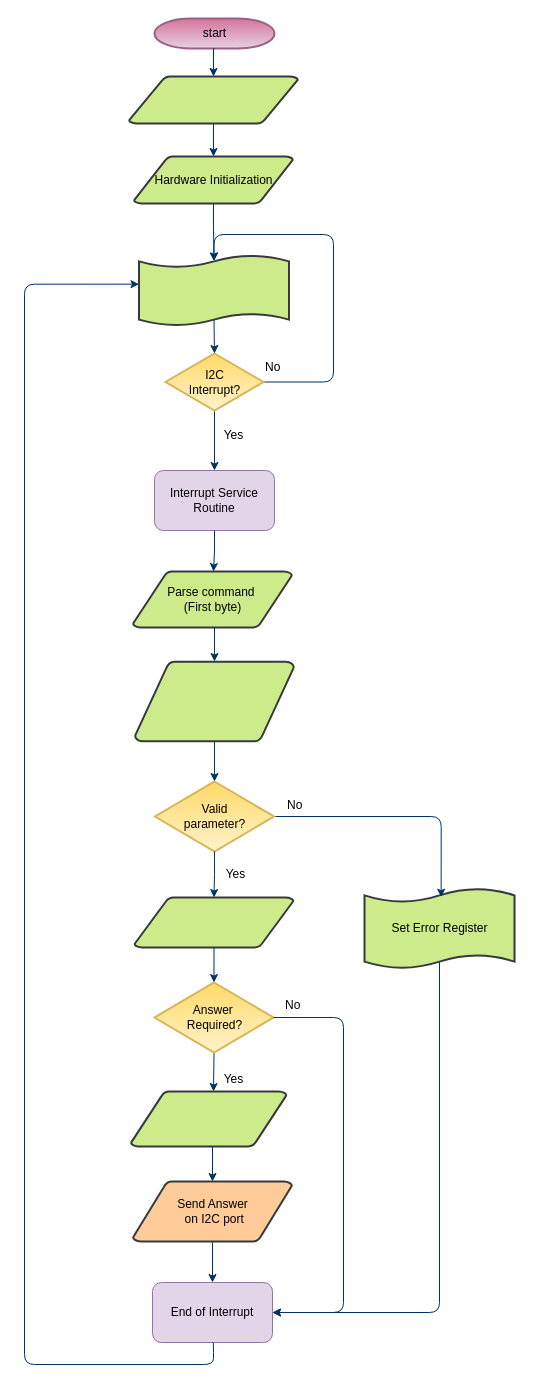
The diagram is 533 pixels wide and 1390 high, and some of its shapes have lost their labels. The box of each missing label's shape, as (x1, y1, x2, y2) in pixels:
Collect Answer (Single Byte): (130, 1090, 287, 1147)
Execute Command: (133, 896, 294, 948)
Extract parameter from command (Second Byte): (134, 660, 294, 742)
Heartbeat Led Flash: (138, 253, 290, 327)
Read Gpio pins to set I2C Address: (128, 75, 298, 124)
